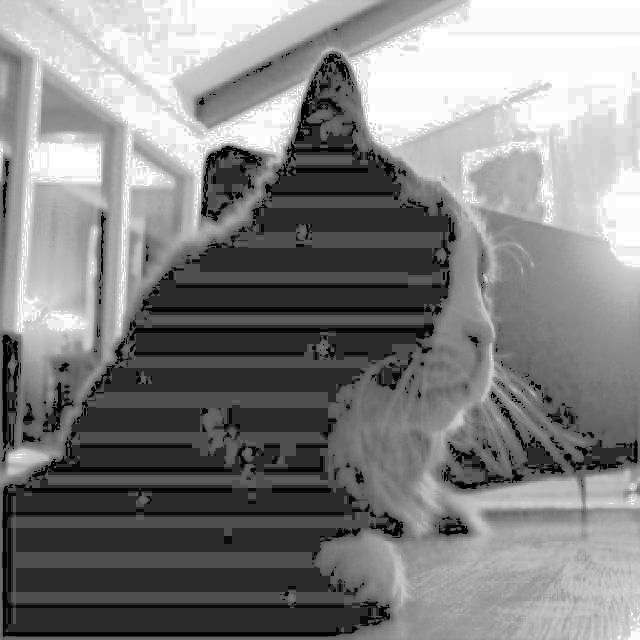Cat: (0, 37, 552, 640)
